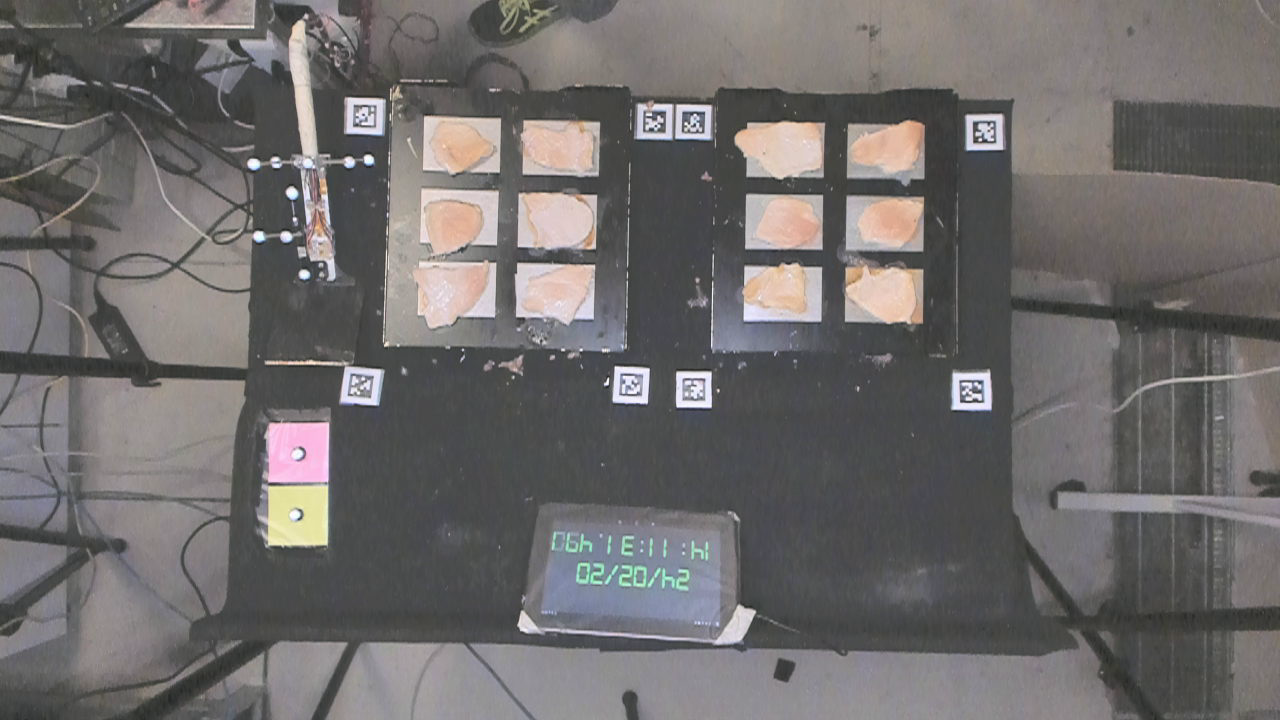chicken: (521, 187, 608, 256), (409, 263, 491, 330), (854, 119, 932, 181), (732, 127, 828, 176), (746, 192, 823, 251), (847, 264, 921, 324), (735, 259, 813, 314), (524, 266, 594, 327), (420, 194, 483, 260), (426, 115, 491, 177), (520, 124, 603, 172), (854, 199, 925, 250)
marker: (268, 422, 331, 482)
